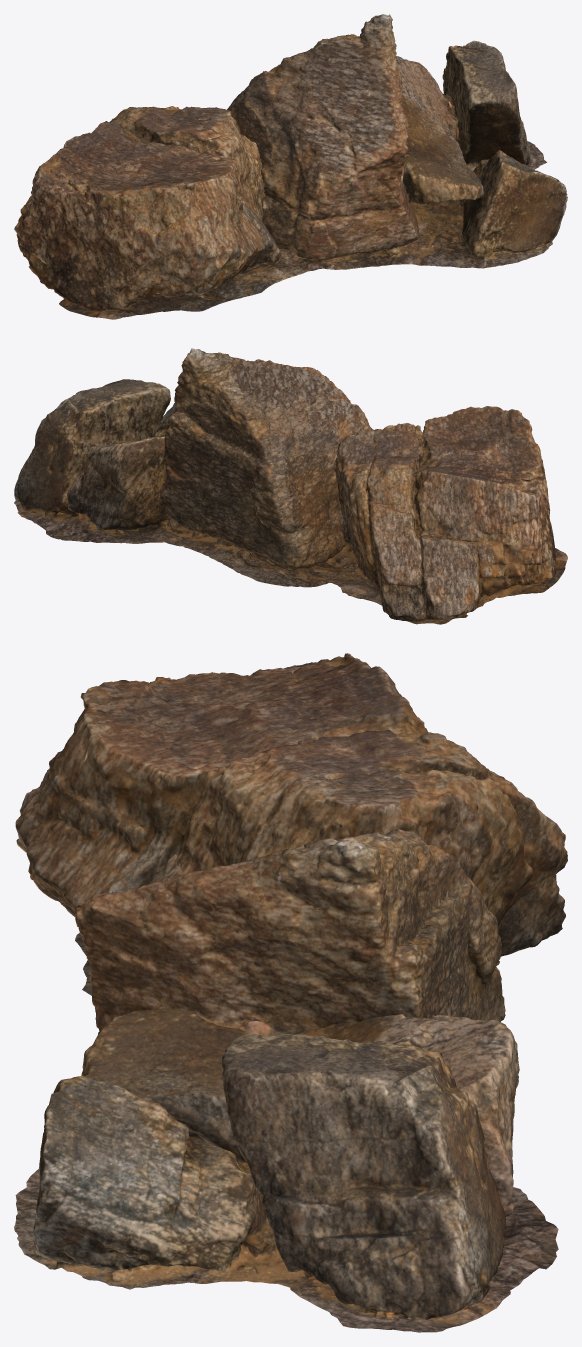
Rendered from namaqualand_boulder_02_4k.gltf.
3 renders of one model, top to bottom at view 1: azimuth 30°, elevation 25°; view 2: azimuth 150°, elevation 25°; view 3: azimuth 270°, elevation 25°, orthographic. The views are drawn at different scales.
Parts seen in each view (by area): view 1: boulder_02; view 2: boulder_02; view 3: boulder_02.
Boxes of the visible parts, x1,y1,x2,y2 form: boulder_02: (14,14,567,319); boulder_02: (14,348,567,624); boulder_02: (14,653,567,1332).
Size of the model in its own units: 2.53 by 0.8826 by 1.23.
Materials: 1 (1 with a texture image).
